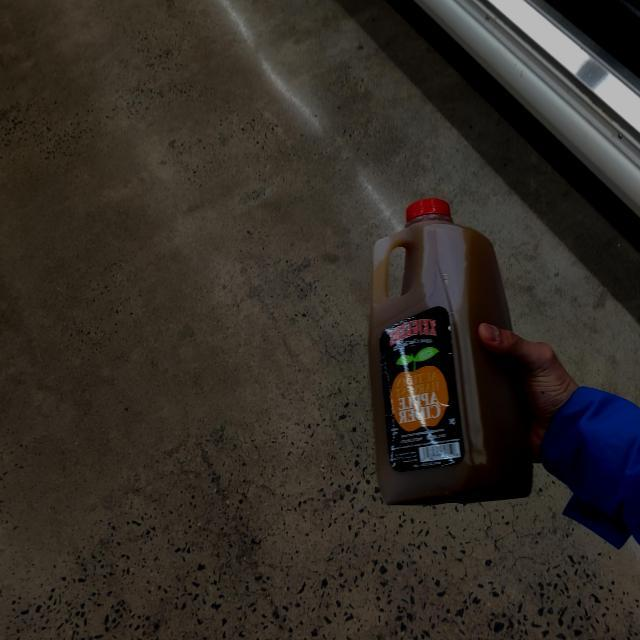Juice: (348, 182, 527, 498)
